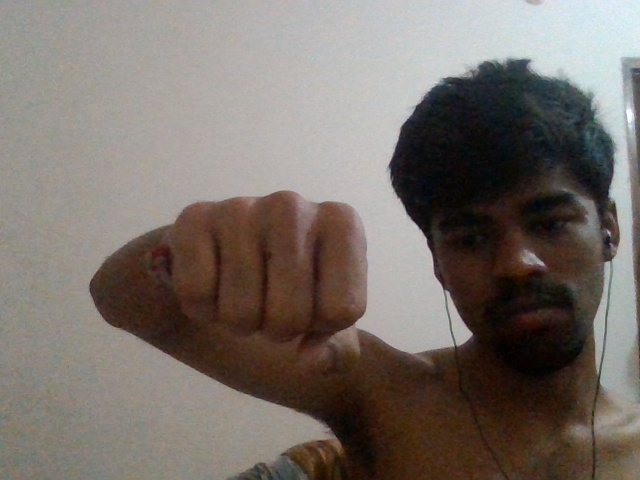Yes: (153, 187, 376, 386)
